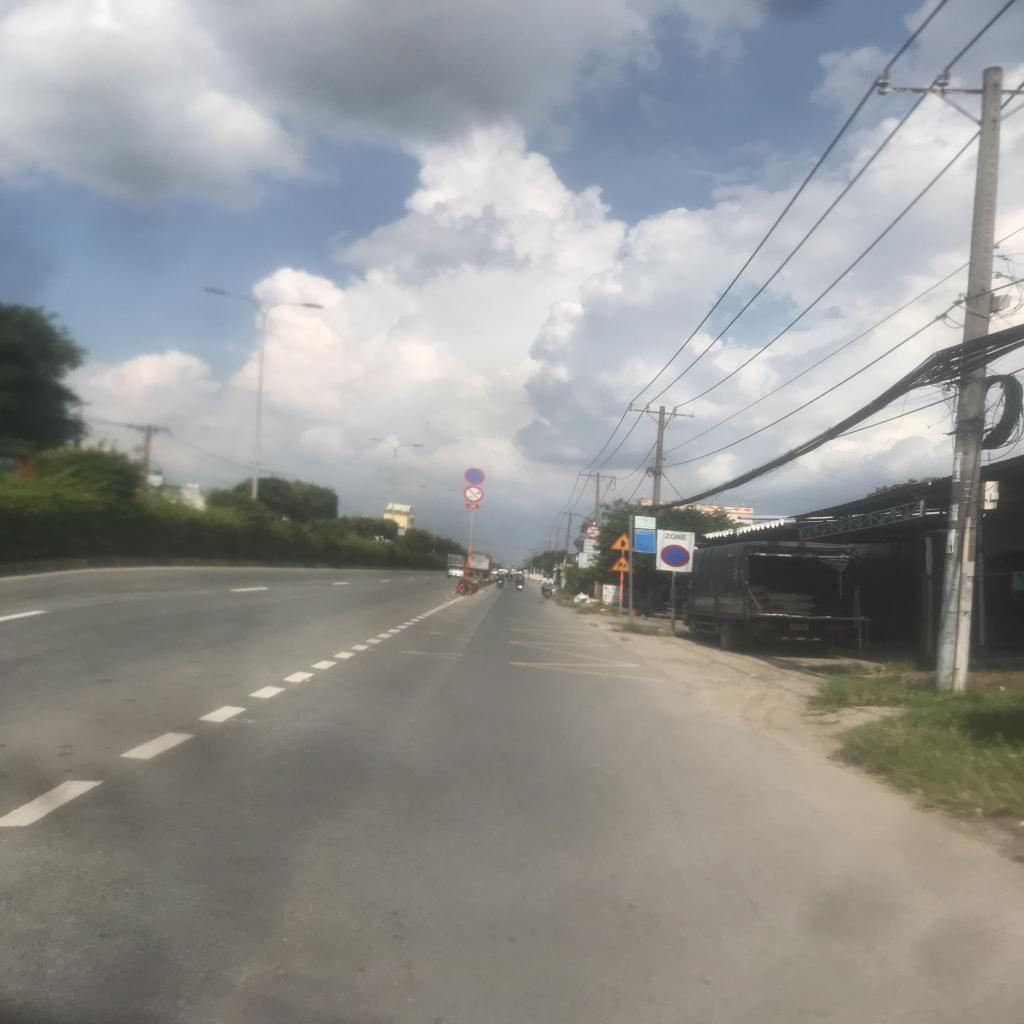cam_do_xe: (661, 545, 689, 567)
cam_dung_xe_va_do_xe: (464, 468, 485, 484)
cam_o_to_tai_va_xe_khach: (585, 525, 603, 538)
cam_xe_2_banh_va_xe_3_banh_co_dong_co: (463, 485, 484, 503)
chu_y_tre_em: (608, 554, 635, 572)
giao_nhau_voi_duong_khong_uu_tien: (610, 532, 635, 551)
